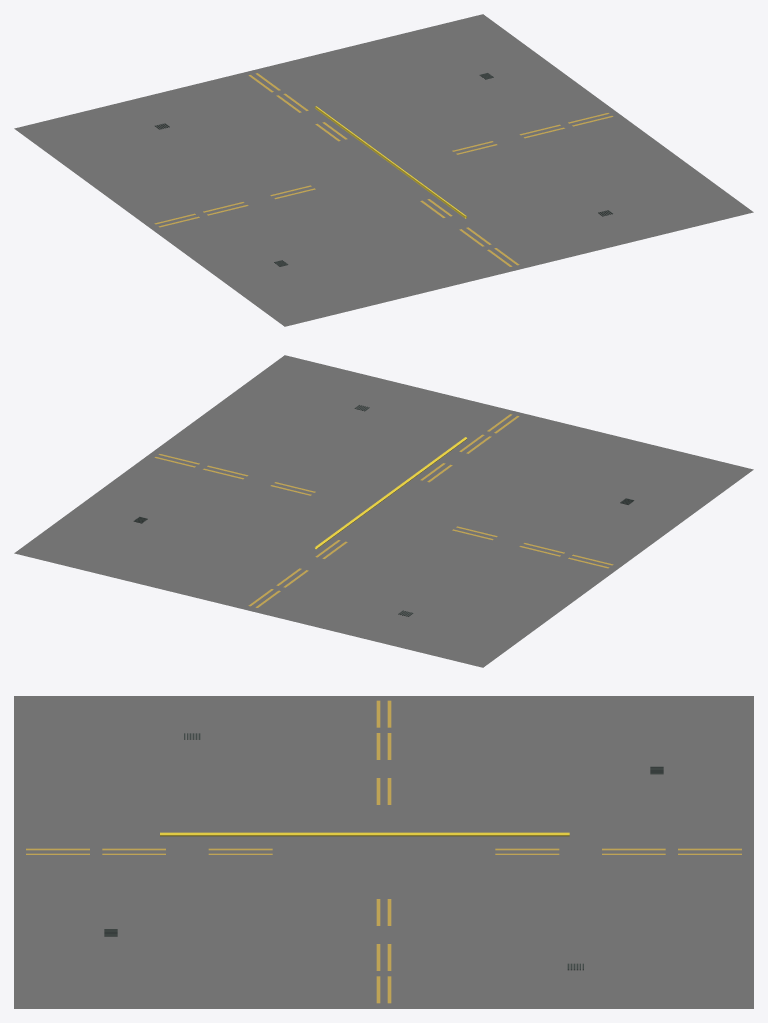
3 views of the same model, one above another, from view 1: azimuth 30°, elevation 25°; view 2: azimuth 150°, elevation 25°; view 3: azimuth 270°, elevation 25° (orthographic). The views are drawn at different scales.
Parts seen in each view (by area): view 1: RD29L | archived geometry, Fitted street and landscape details, RD29L | line, light and sprite surfaces; view 2: RD29L | archived geometry, Fitted street and landscape details, RD29L | line, light and sprite surfaces; view 3: RD29L | archived geometry, Fitted street and landscape details, RD29L | line, light and sprite surfaces.
Part boxes in pixels (x1=…): RD29L | archived geometry: x1=14, y1=14, x2=753, y2=326; Fitted street and landscape details: x1=154, y1=73, x2=613, y2=266; RD29L | line, light and sprite surfaces: x1=315, y1=106, x2=466, y2=218; RD29L | archived geometry: x1=14, y1=355, x2=753, y2=667; Fitted street and landscape details: x1=133, y1=405, x2=634, y2=616; RD29L | line, light and sprite surfaces: x1=315, y1=437, x2=466, y2=549; RD29L | archived geometry: x1=14, y1=696, x2=753, y2=1008; Fitted street and landscape details: x1=26, y1=700, x2=741, y2=1003; RD29L | line, light and sprite surfaces: x1=160, y1=832, x2=569, y2=836.
Bounding box in the file's own units: 16 × 0.4656 × 16.
